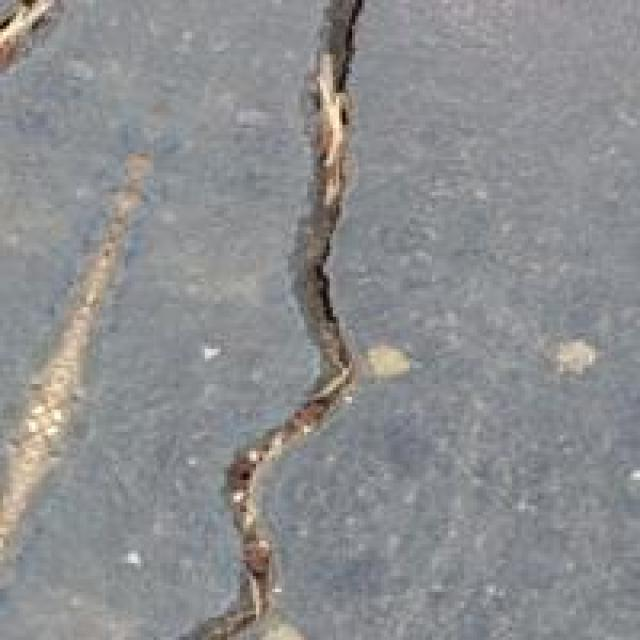Crack: (172, 0, 410, 637)
